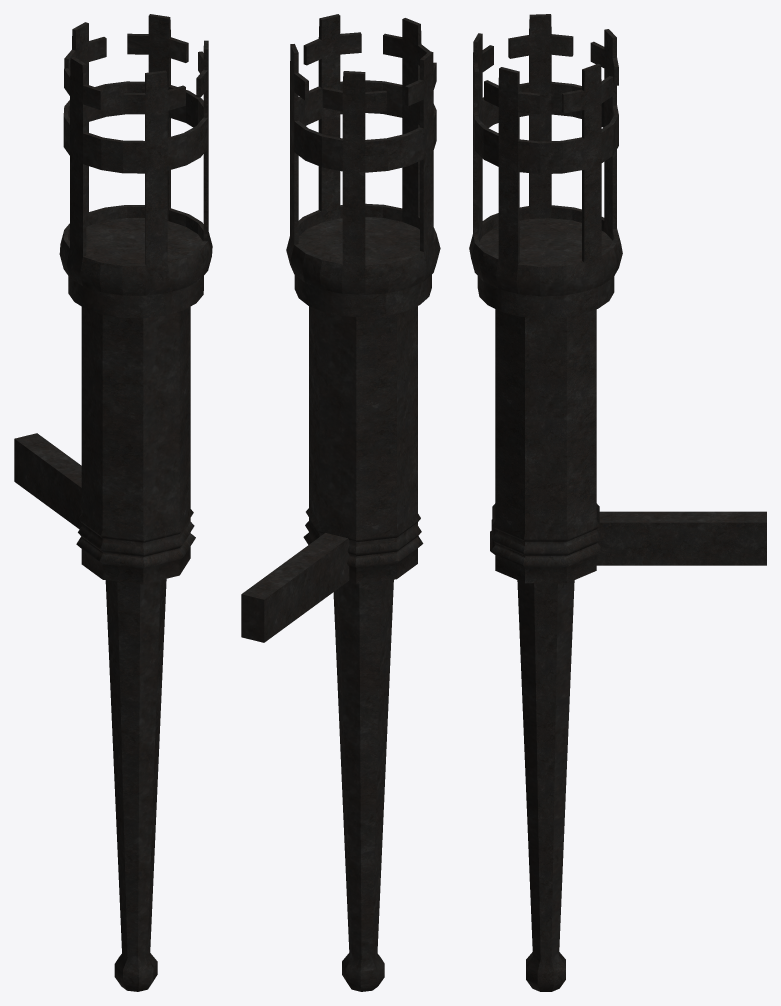
Rendered from torch.FBX.
3 views of the same model, side by side, from view 1: azimuth 30°, elevation 25°; view 2: azimuth 150°, elevation 25°; view 3: azimuth 270°, elevation 25° (orthographic).
Parts seen in each view (by area): view 1: polySurface763; view 2: polySurface763; view 3: polySurface763.
Boxes of the visible parts, x1,y1,x2,y2 form: polySurface763: (14, 14, 212, 991); polySurface763: (241, 14, 440, 991); polySurface763: (469, 14, 766, 991).
Bounding box in the file's own units: 7.62 × 51.5 × 14.76.
